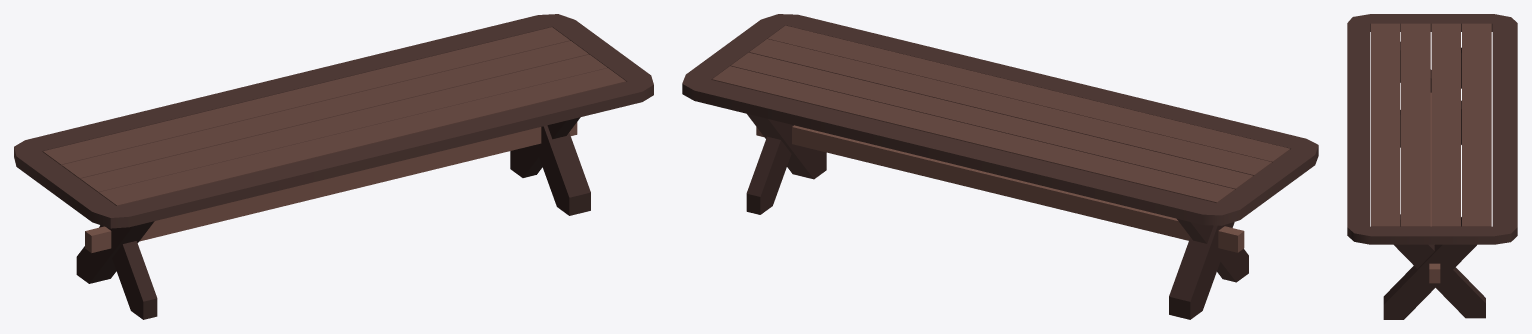
File: Long table.fbx
3 renders of one model, left to right at view 1: azimuth 30°, elevation 25°; view 2: azimuth 150°, elevation 25°; view 3: azimuth 270°, elevation 25°, orthographic. The views are drawn at different scales.
Visible parts, largest first — view 1: Cube.007; view 2: Cube.007; view 3: Cube.007.
Part boxes in pixels (x1=…): Cube.007: x1=14, y1=14, x2=653, y2=319; Cube.007: x1=682, y1=14, x2=1318, y2=319; Cube.007: x1=1347, y1=14, x2=1517, y2=319.
Size of the model in its own units: 5.5 by 1.21 by 1.78.
